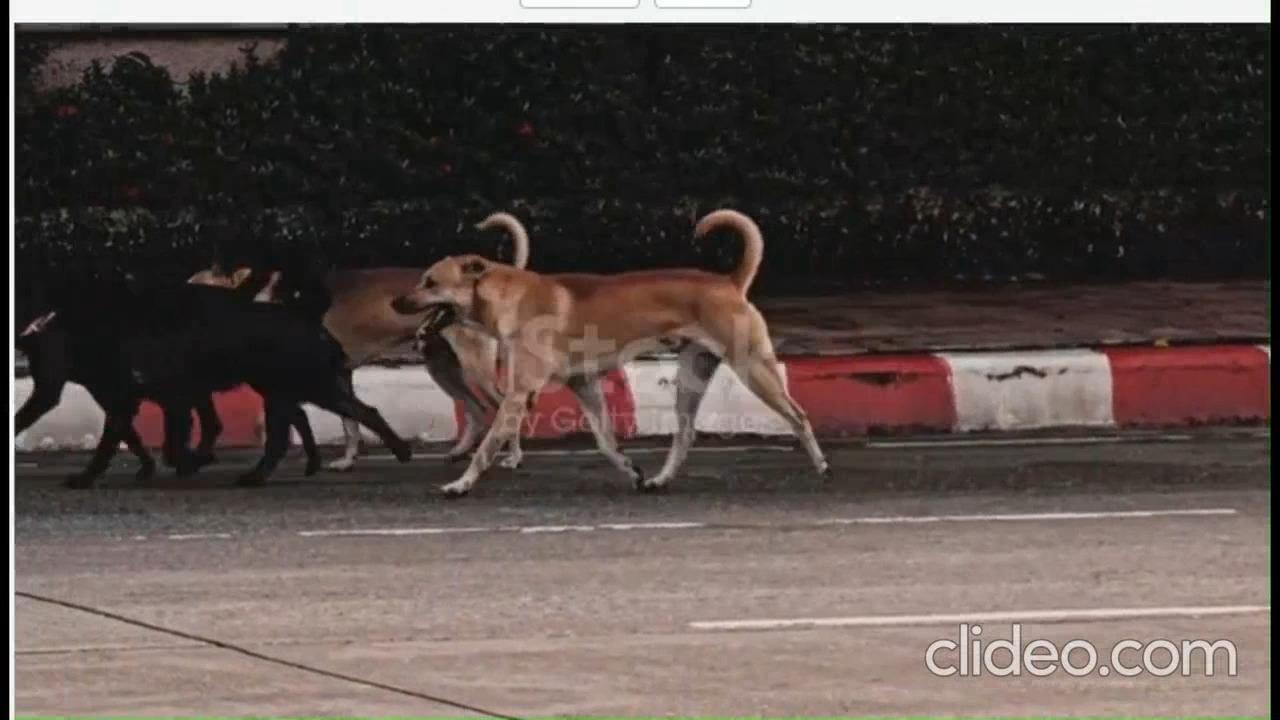dog: (389, 205, 831, 500), (7, 254, 407, 484)
